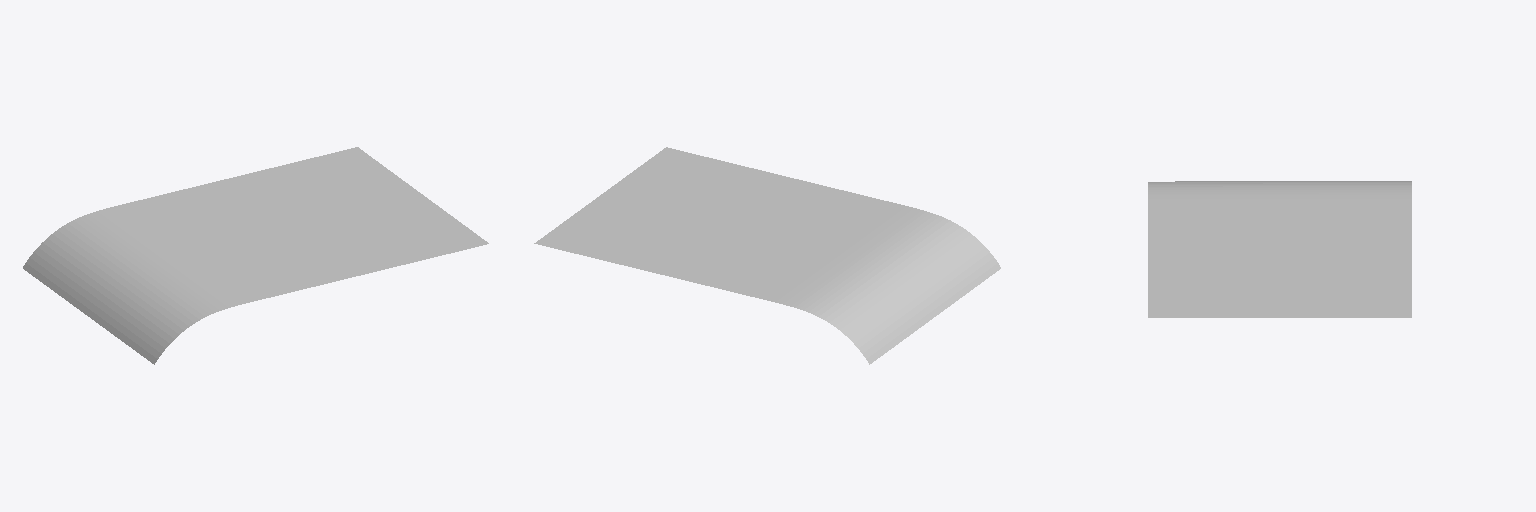
The model's file is CurvePaper_000063.obj.
The picture shows the model from 3 angles: view 1: azimuth 30°, elevation 25°; view 2: azimuth 150°, elevation 25°; view 3: azimuth 270°, elevation 25°; orthographic projection.
Visible parts, largest first — view 1: Plane; view 2: Plane; view 3: Plane.
Boxes of the visible parts, x1,y1,x2,y2 form: Plane: [23, 147, 488, 364]; Plane: [534, 147, 1000, 364]; Plane: [1148, 181, 1411, 317].
Size of the model in its own units: 3.32 by 0.3735 by 2.26.